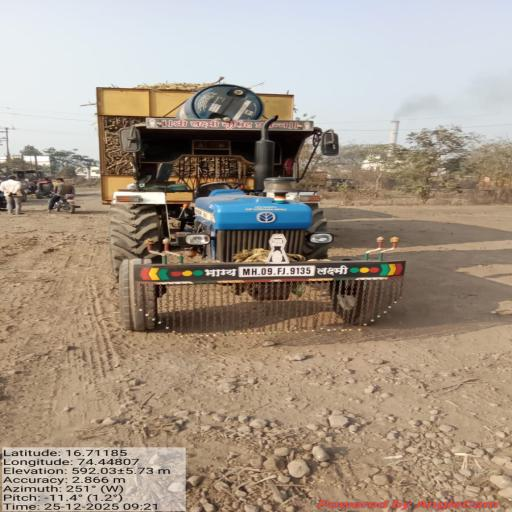number_plate: (238, 265, 315, 277)
